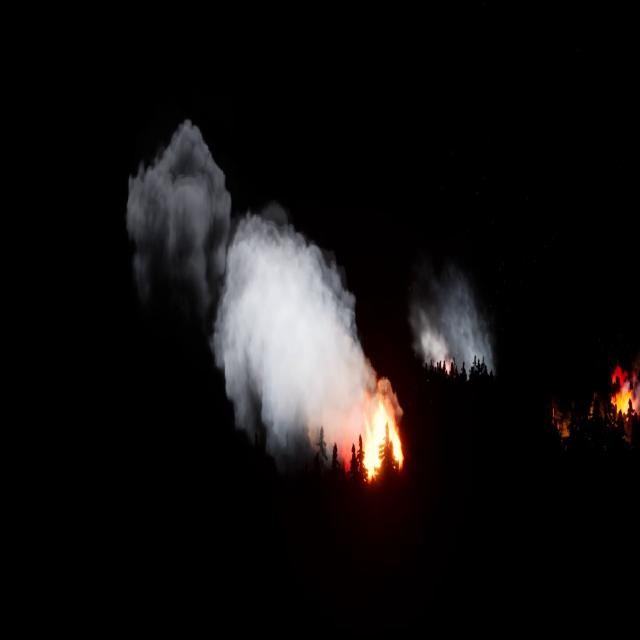fire: (358, 384, 405, 481), (611, 361, 640, 423)
smoke: (125, 109, 382, 467), (414, 274, 497, 383)
